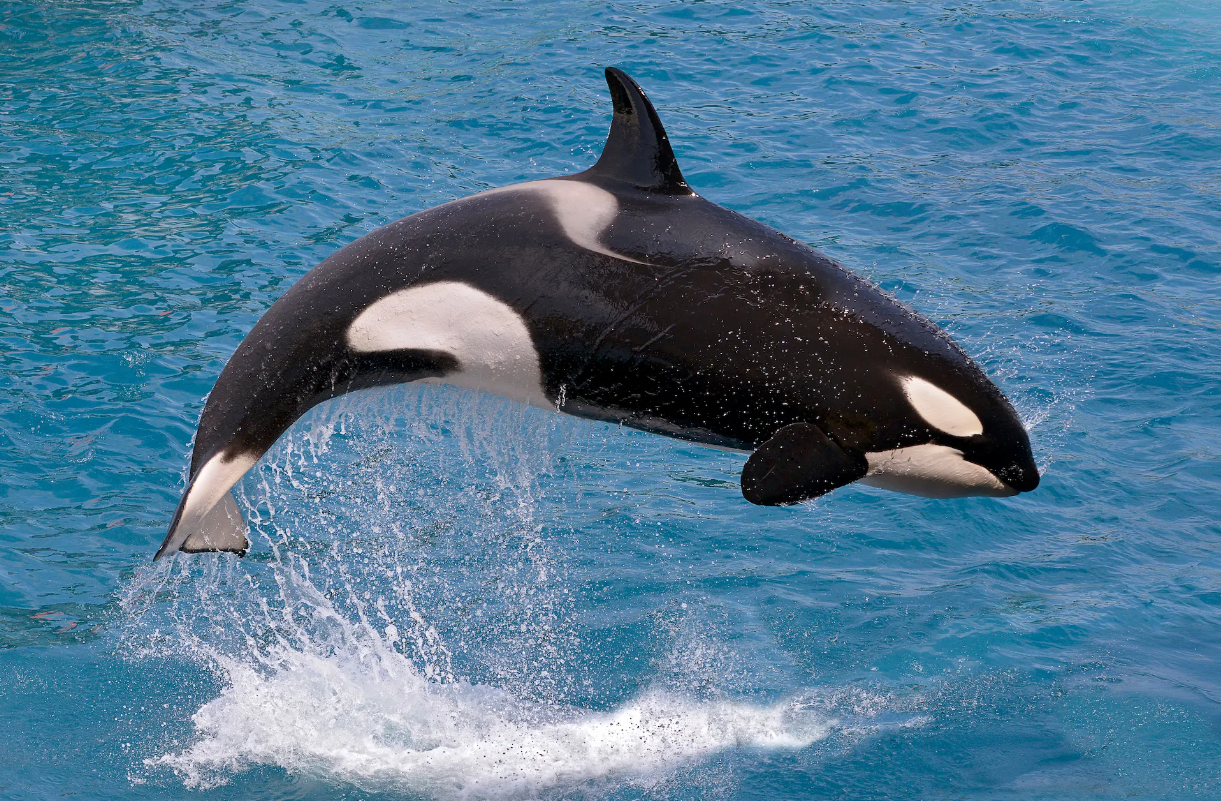Orca whale: (155, 61, 1048, 565)
